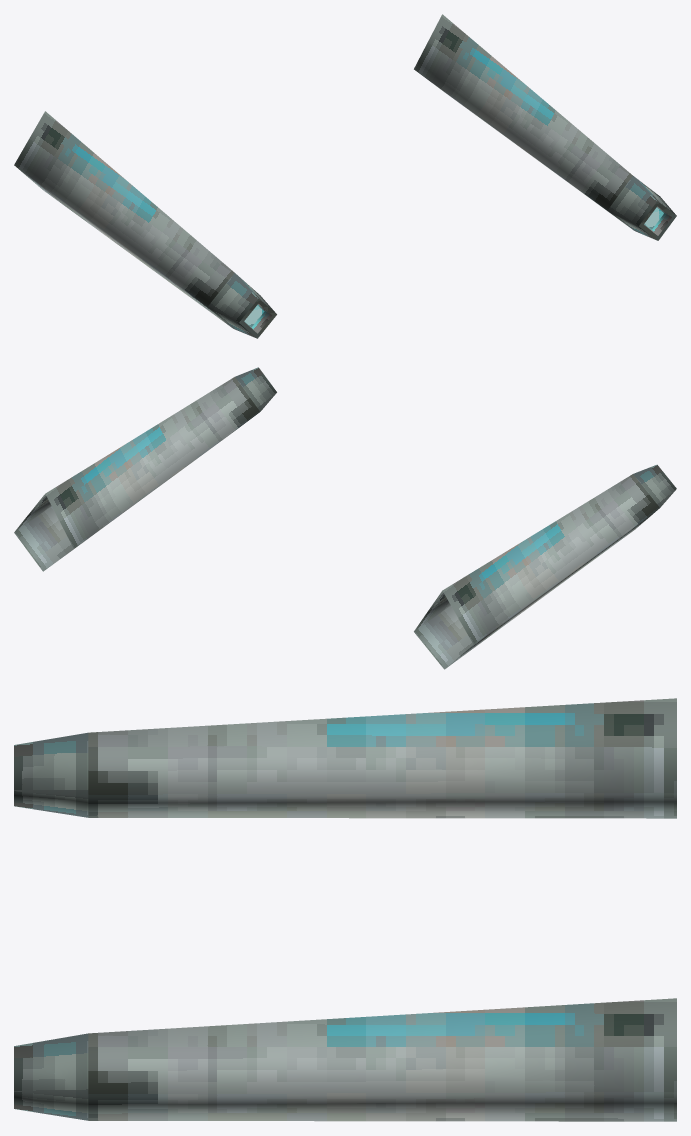
File: hutt_fighter_heavy_weapon1_s02_l2.fbx
The picture shows the model from 3 angles, top to bottom: view 1: azimuth 30°, elevation 25°; view 2: azimuth 150°, elevation 25°; view 3: azimuth 270°, elevation 25°; orthographic projection. The views are drawn at different scales.
Parts seen in each view (by area): view 1: mesh_node; view 2: mesh_node; view 3: mesh_node.
Part boxes in pixels (x1,y1,x2,y2): mesh_node: (14,14,676,338); mesh_node: (14,367,676,669); mesh_node: (14,698,676,1121).
Bounding box in the file's own units: 2.73 × 0.4466 × 2.2.
1 material, 1 textured.
